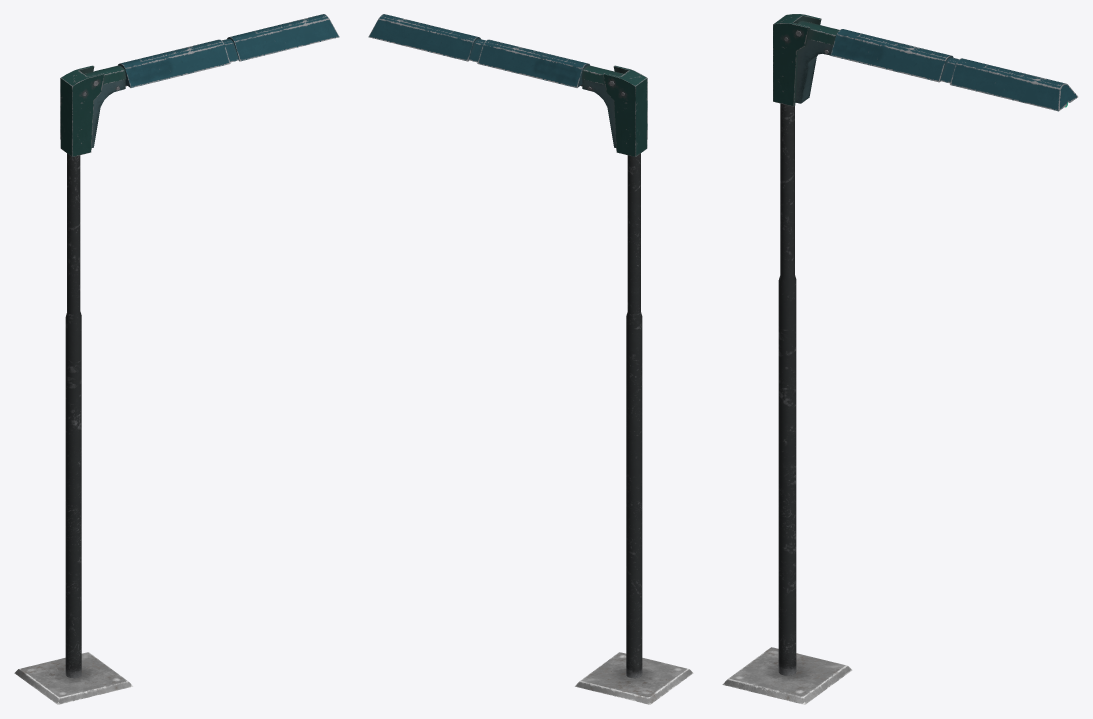
Rendered from street_light.fbx.
3 views of the same model, side by side, from view 1: azimuth 30°, elevation 25°; view 2: azimuth 150°, elevation 25°; view 3: azimuth 330°, elevation 25° (orthographic). The views are drawn at different scales.
Visible parts, largest first — view 1: pipe_low, Light_Handle_low, G_low, hh_low, Handle_low; view 2: pipe_low, Light_Handle_low, G_low, hh_low, Handle_low; view 3: pipe_low, Light_Handle_low, G_low, hh_low, Handle_low.
Boxes of the visible parts, box(x1,y1,x2,y2) form: pipe_low: box(65, 153, 81, 678); Light_Handle_low: box(118, 14, 339, 87); G_low: box(14, 652, 132, 704); hh_low: box(60, 65, 104, 156); Handle_low: box(91, 79, 125, 147); pipe_low: box(626, 153, 642, 678); Light_Handle_low: box(368, 14, 589, 87); G_low: box(575, 652, 693, 704); hh_low: box(603, 65, 647, 156); Handle_low: box(582, 79, 616, 147); pipe_low: box(778, 103, 796, 675); Light_Handle_low: box(830, 29, 1077, 111); G_low: box(722, 647, 852, 704); hh_low: box(773, 14, 821, 106); Handle_low: box(795, 39, 833, 103).
Bounding box in the file's own units: 199 × 389 × 50.8.
Materials: 2 (1 with a texture image).
